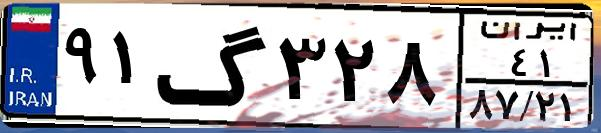1: (110, 28, 156, 98), (560, 70, 590, 125), (537, 27, 568, 80)
2: (330, 28, 385, 110), (535, 70, 560, 125)
3: (270, 28, 330, 110)
4: (508, 27, 537, 80)
7: (495, 70, 520, 125)
8: (385, 28, 445, 110), (470, 70, 495, 125)
9: (57, 26, 110, 100)
گ: (156, 12, 270, 120)
